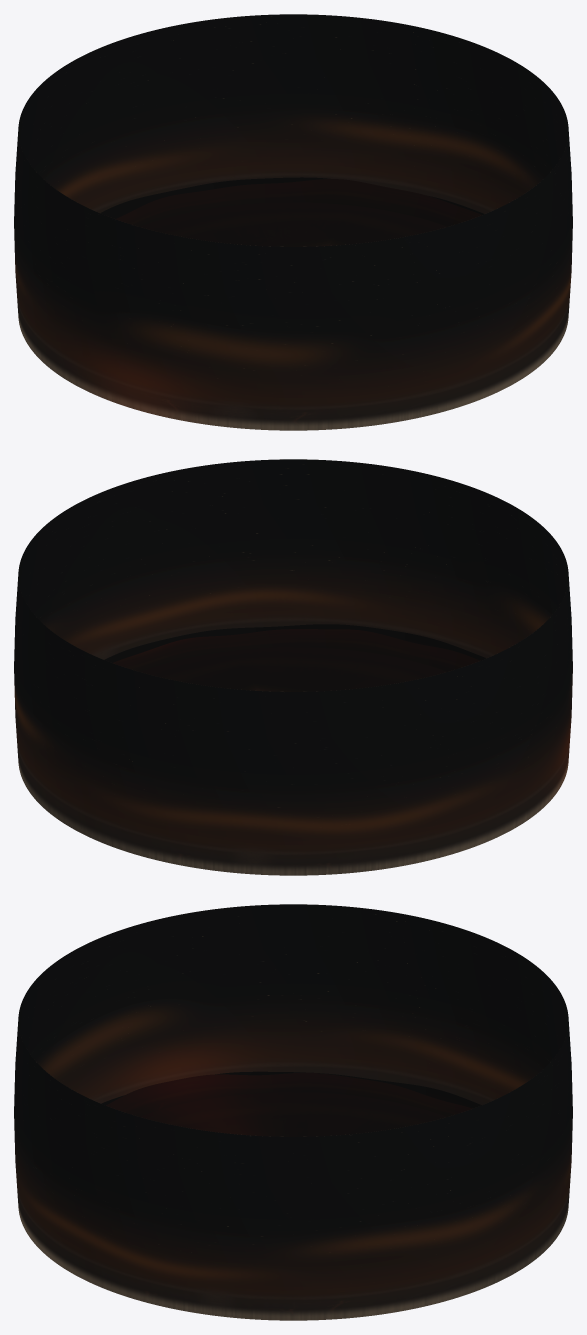
The model's file is ember-shore-panorama.glb.
3 views of the same model, one above another, from view 1: azimuth 30°, elevation 25°; view 2: azimuth 150°, elevation 25°; view 3: azimuth 270°, elevation 25° (orthographic).
Visible parts, largest first — view 1: EmberShorePanorama; view 2: EmberShorePanorama; view 3: EmberShorePanorama.
Boxes of the visible parts, <box> form: EmberShorePanorama: <box>14,14,572,430</box>; EmberShorePanorama: <box>14,459,572,875</box>; EmberShorePanorama: <box>14,904,572,1320</box>.
Size of the model in its own units: 386 by 140 by 386.
Materials: 1 (1 with a texture image).
